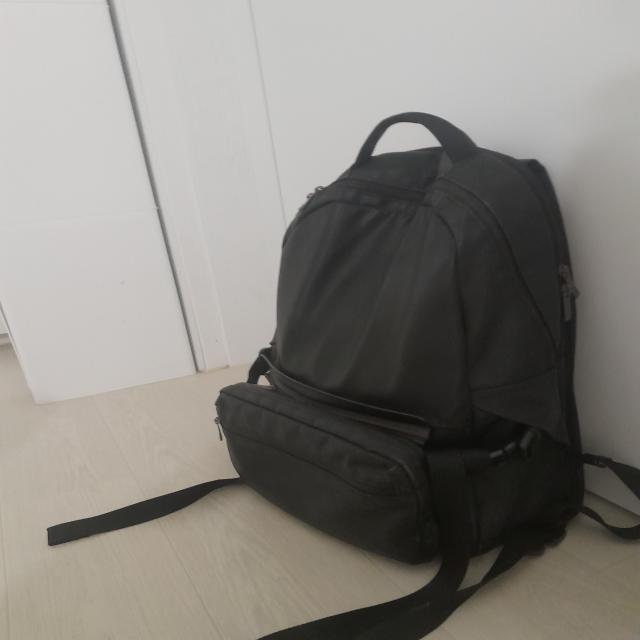backpack: (48, 112, 640, 640)
